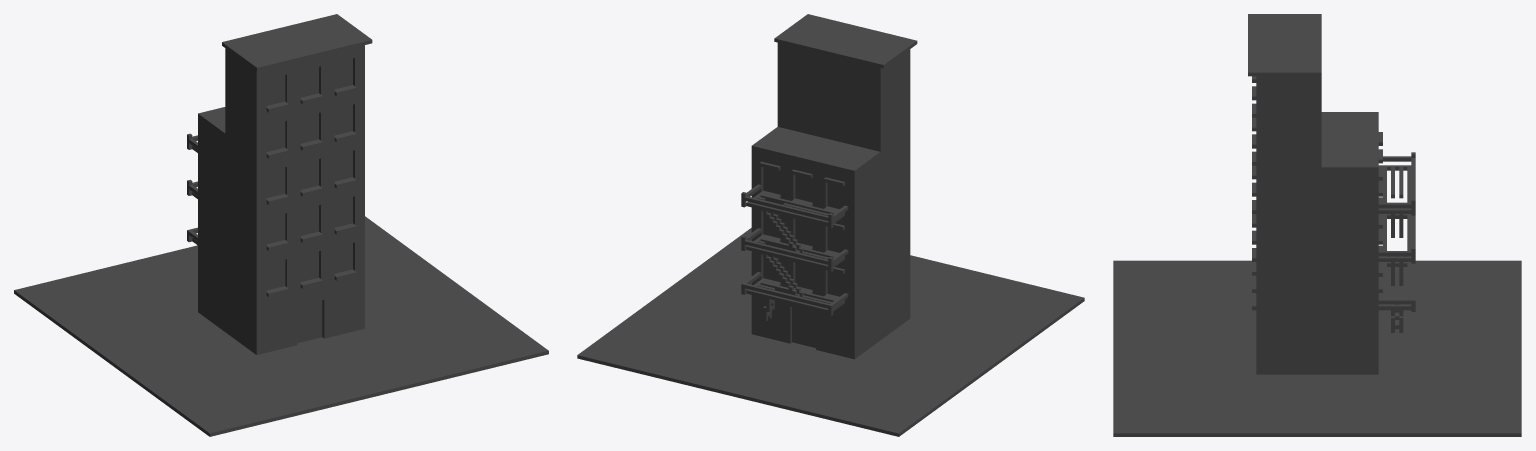
Rendered from PruebaGit.obj.
3 renders of one model, left to right at view 1: azimuth 30°, elevation 25°; view 2: azimuth 150°, elevation 25°; view 3: azimuth 270°, elevation 25°, orthographic. The views are drawn at different scales.
Parts seen in each view (by area): view 1: PruebaGit; view 2: PruebaGit; view 3: PruebaGit.
Boxes of the visible parts, x1,y1,x2,y2 form: PruebaGit: (14,14,548,436); PruebaGit: (577,14,1084,436); PruebaGit: (1113,14,1521,436).
Size of the model in its own units: 100 by 83 by 100.
Materials: 1 (1 with a texture image).
